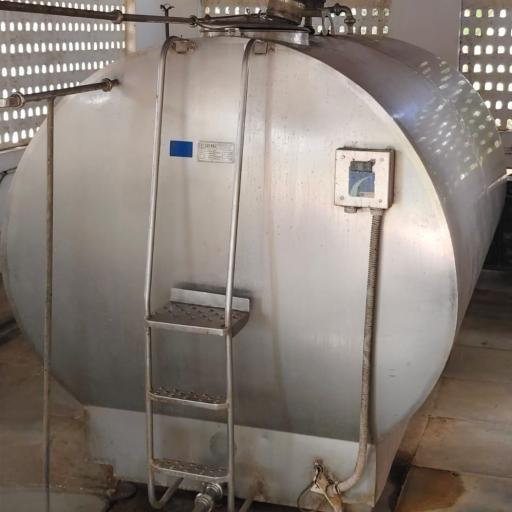silo: (0, 12, 507, 511)
